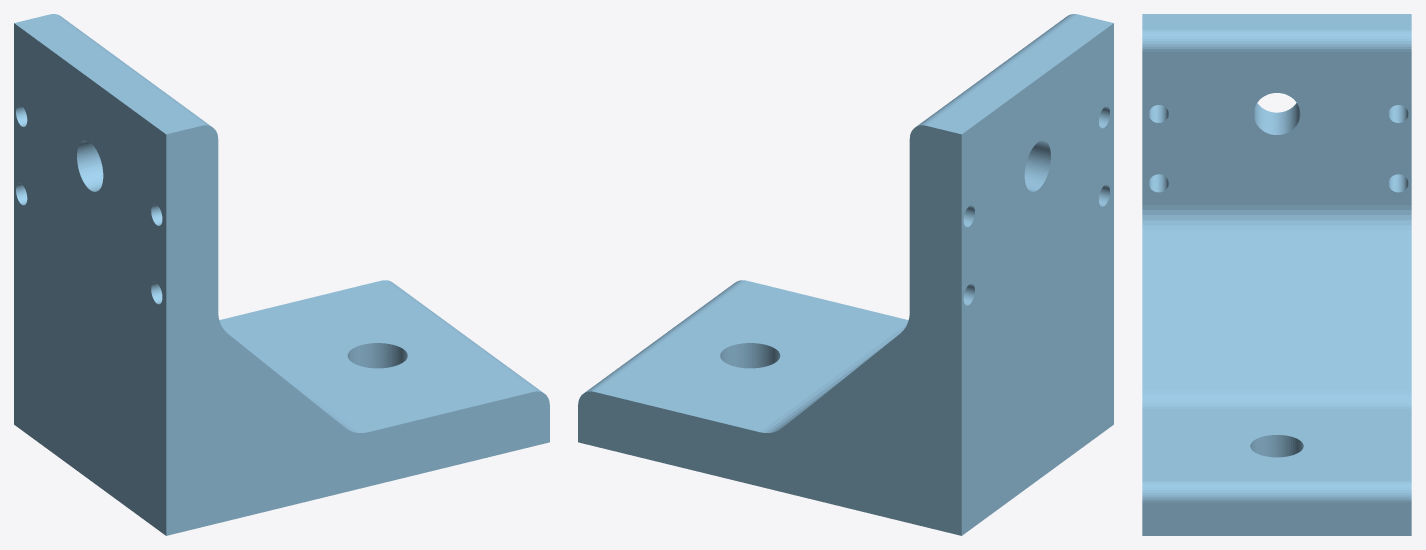
Rendered from fix1.dae.
3 renders of one model, left to right at view 1: azimuth 30°, elevation 25°; view 2: azimuth 150°, elevation 25°; view 3: azimuth 270°, elevation 25°, orthographic. The views are drawn at different scales.
Visible parts, largest first — view 1: 5e678c2e52cbe70f90df2ad5; view 2: 5e678c2e52cbe70f90df2ad5; view 3: 5e678c2e52cbe70f90df2ad5.
Boxes of the visible parts, bbox=[...] form: 5e678c2e52cbe70f90df2ad5: bbox=[14, 14, 549, 535]; 5e678c2e52cbe70f90df2ad5: bbox=[578, 14, 1113, 535]; 5e678c2e52cbe70f90df2ad5: bbox=[1142, 14, 1411, 535].
Bounding box in the file's own units: 0.059 × 0.0405 × 0.059.
